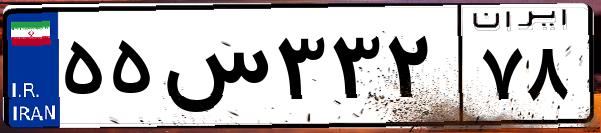2: (385, 28, 445, 110)
3: (270, 28, 330, 110), (330, 28, 385, 110)
5: (57, 26, 110, 100), (110, 28, 158, 98)
7: (475, 38, 525, 113)
8: (525, 38, 570, 115)
س: (158, 20, 270, 120)
